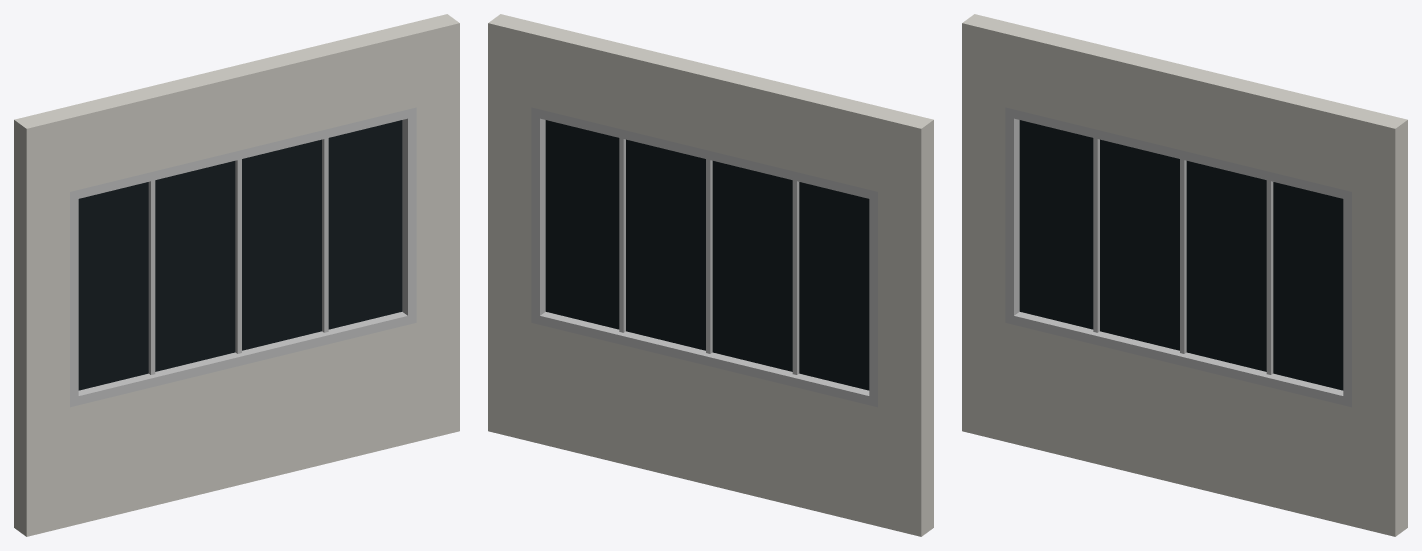
File: OA_Facade_WindowBay_4m.fbx
The picture shows the model from 3 angles, left to right: view 1: azimuth 30°, elevation 25°; view 2: azimuth 150°, elevation 25°; view 3: azimuth 330°, elevation 25°; orthographic projection.
Visible parts, largest first — view 1: OA_Facade_WindowBay_4m; view 2: OA_Facade_WindowBay_4m; view 3: OA_Facade_WindowBay_4m.
Part boxes in pixels (x1,y1,x2,y2): OA_Facade_WindowBay_4m: [14, 14, 459, 536]; OA_Facade_WindowBay_4m: [488, 14, 933, 536]; OA_Facade_WindowBay_4m: [962, 14, 1407, 536].
Size of the model in its own units: 4 by 3.6 by 0.2.
